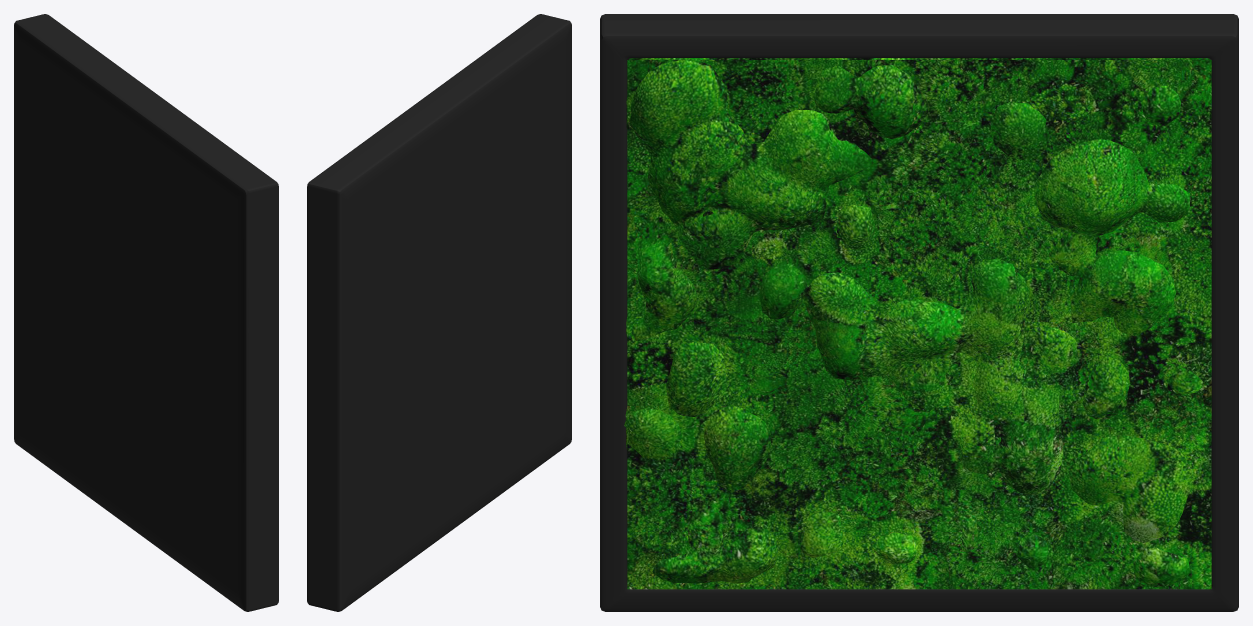
File: Moosbild_Hugelmoos_350x350mm_black.fbx
The picture shows the model from 3 angles, left to right: view 1: azimuth 30°, elevation 25°; view 2: azimuth 150°, elevation 25°; view 3: azimuth 270°, elevation 25°; orthographic projection. The views are drawn at different scales.
Parts seen in each view (by area): view 1: edge; view 2: edge; view 3: moss_low, moss21, edge.
Boxes of the visible parts, x1,y1,x2,y2 form: edge: (14, 14, 278, 611); edge: (307, 14, 571, 611); moss_low: (627, 60, 1211, 589); moss21: (624, 58, 1210, 586); edge: (600, 14, 1238, 611).
Bounding box in the file's own units: 4.3 × 35 × 35.
2 materials, 1 textured.
